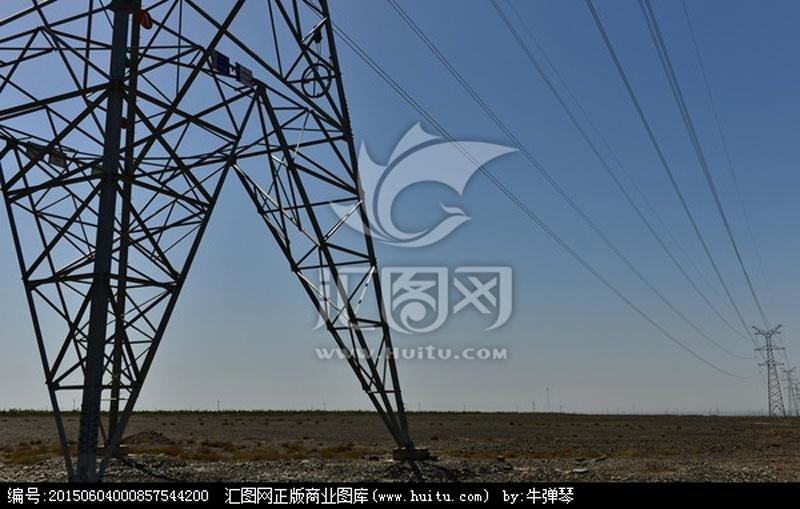power_tower: (26, 6, 383, 466), (747, 314, 791, 427)
